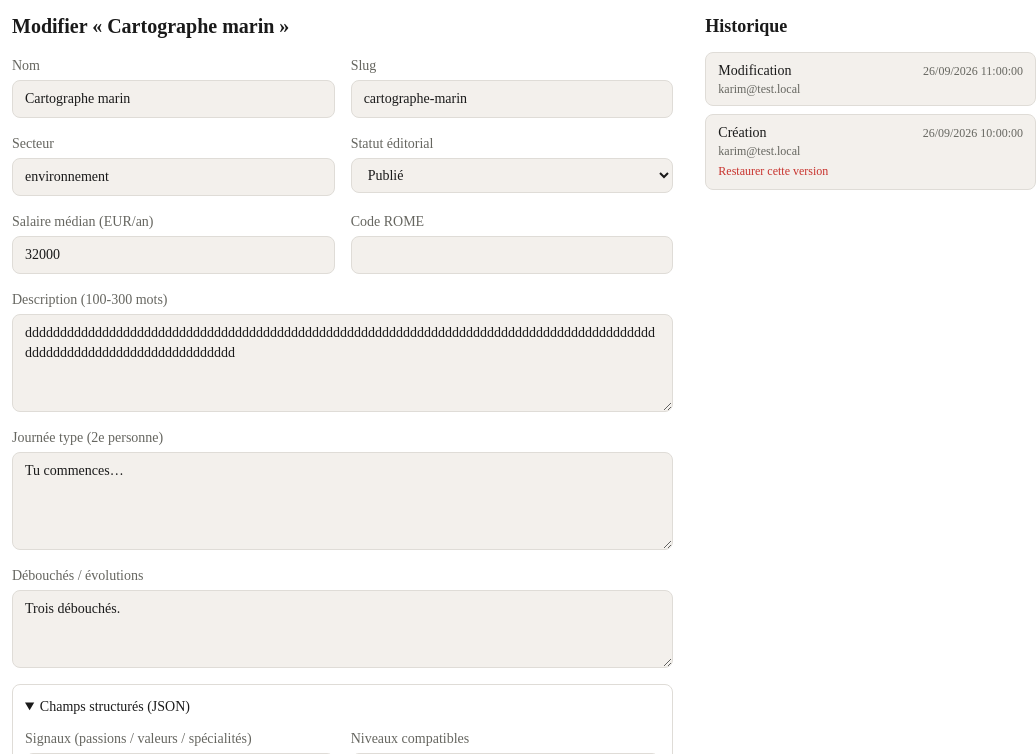
Scenario: ProfessionForm › rollback targets the chosen revision and refreshes the draft
This screenshot has width=1036, height=754.
What coordinates should you click on to do the following:
click the button "Restaurer cette version"
I would click on:
 (773, 171)
Its box is [718, 163, 828, 179].
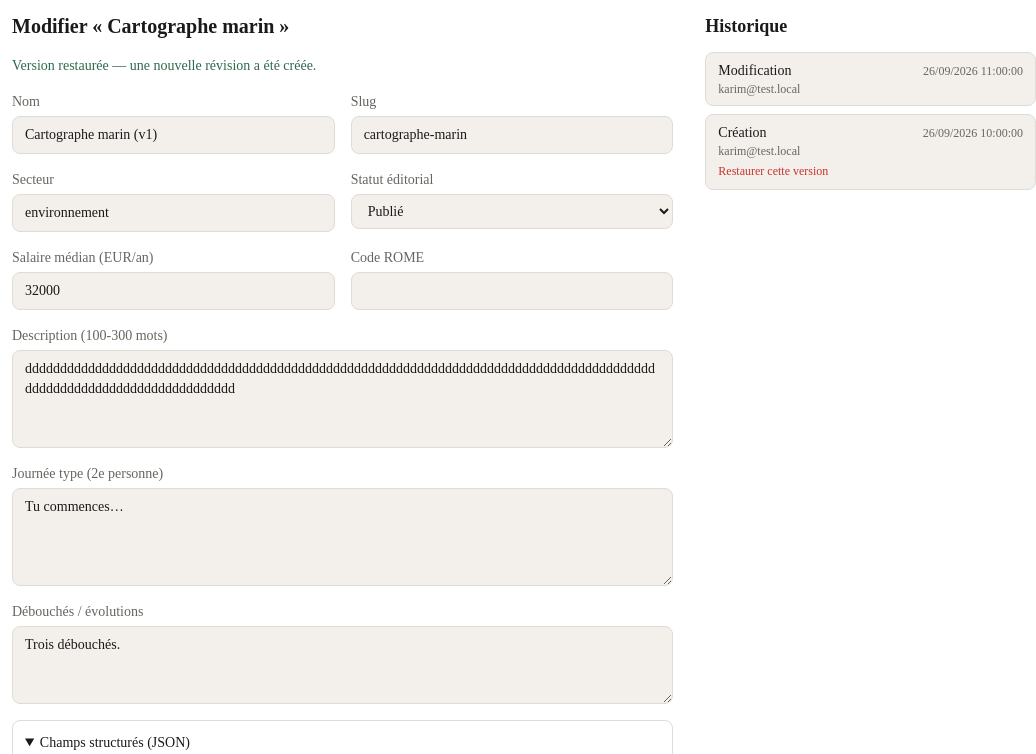
Check: the field labelled "Nom" holds "Cartographe marin (v1)", box [12, 116, 335, 154]
